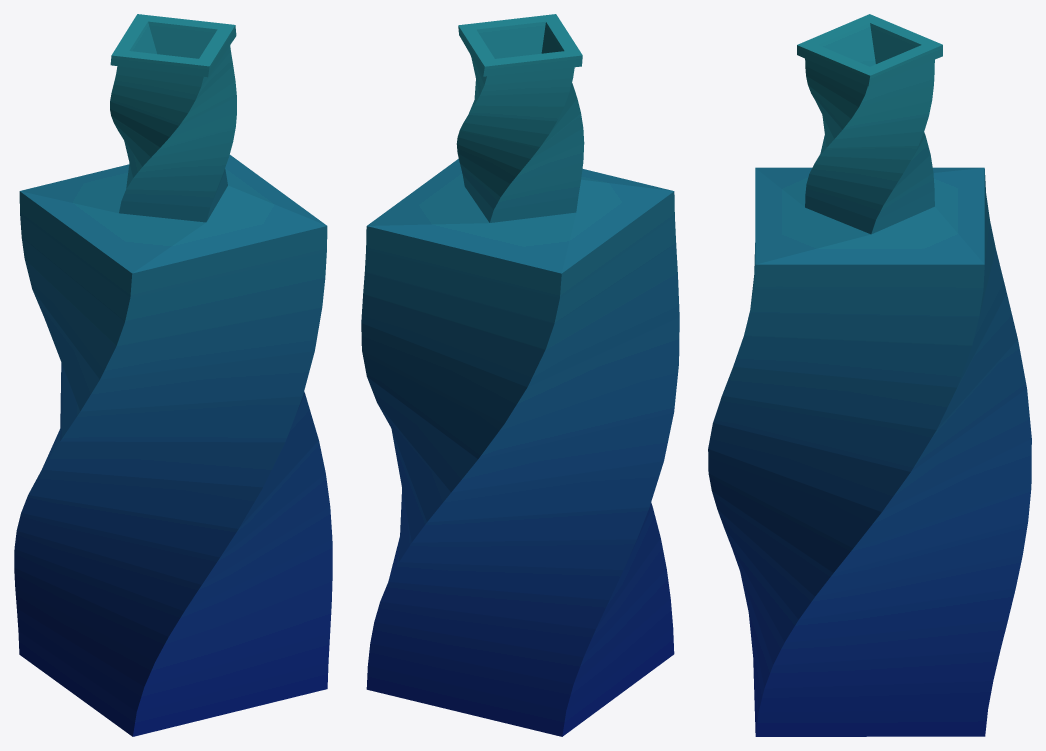
File: UniqueBottle2.fbx
3 views of the same model, side by side, from view 1: azimuth 30°, elevation 25°; view 2: azimuth 150°, elevation 25°; view 3: azimuth 270°, elevation 25° (orthographic).
Parts seen in each view (by area): view 1: UniqueBottle2; view 2: UniqueBottle2; view 3: UniqueBottle2.
Part boxes in pixels (x1=…): UniqueBottle2: x1=14, y1=14, x2=332, y2=736; UniqueBottle2: x1=361, y1=14, x2=679, y2=736; UniqueBottle2: x1=708, y1=14, x2=1031, y2=736.
Size of the model in its own units: 84.62 by 186 by 84.62.
